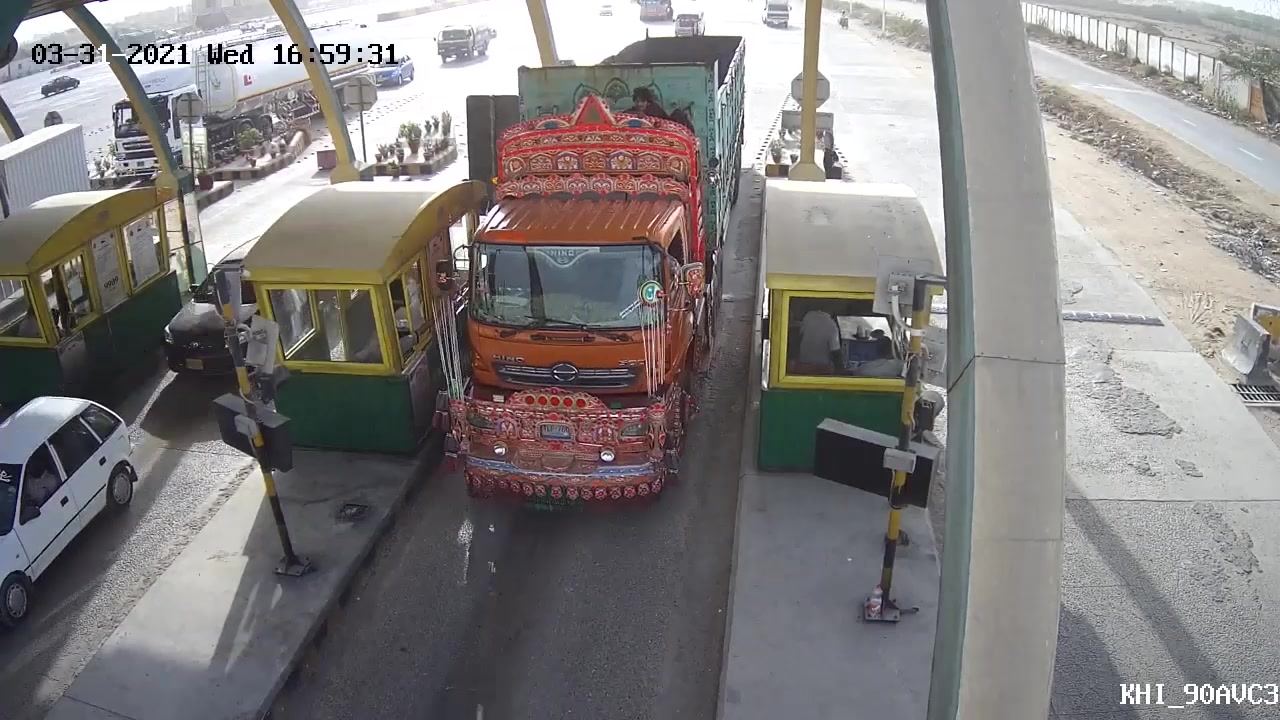F6: (442, 22, 751, 517)
